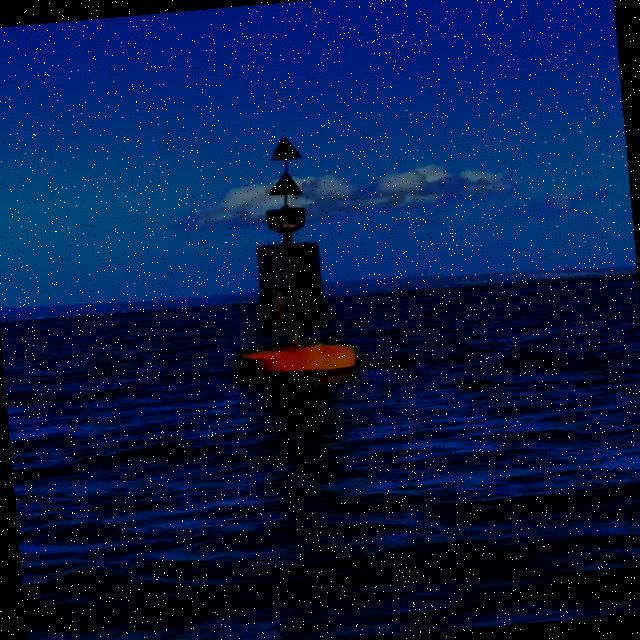marque: (215, 127, 365, 399)
